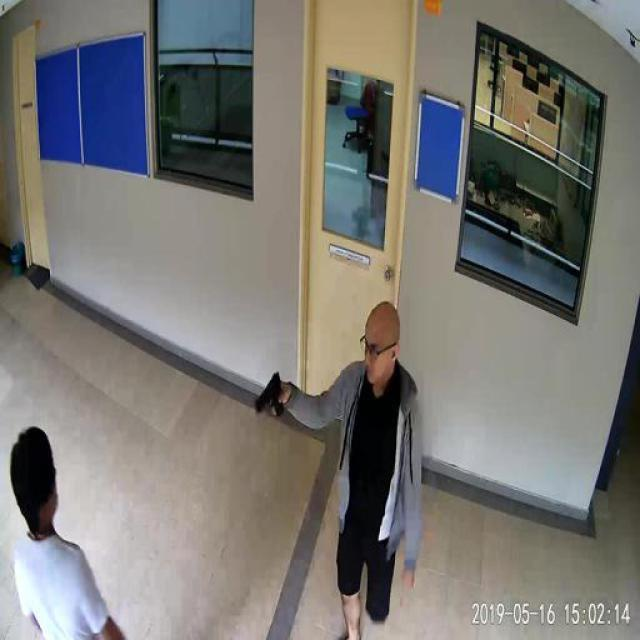weapon: (253, 369, 289, 419)
